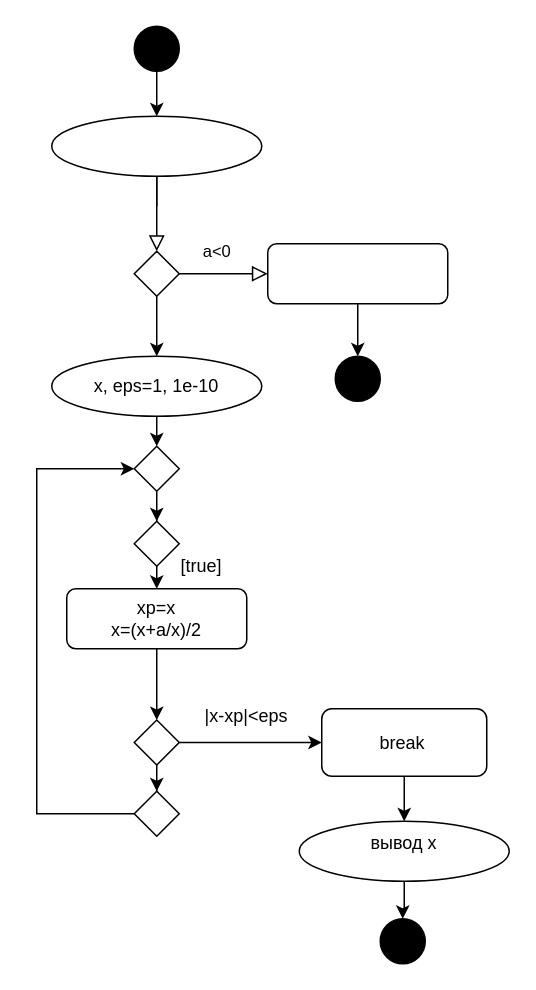
Image size: 536x990. Some labels were removed from this diagram. The shapes that lost their labels are listed below. From the top down, each one's box as (x1, y1, x2, y2) in pixels, then its label:
(50, 115, 262, 176): ввод a
(266, 242, 448, 304): Illegal value of a exit (1)
